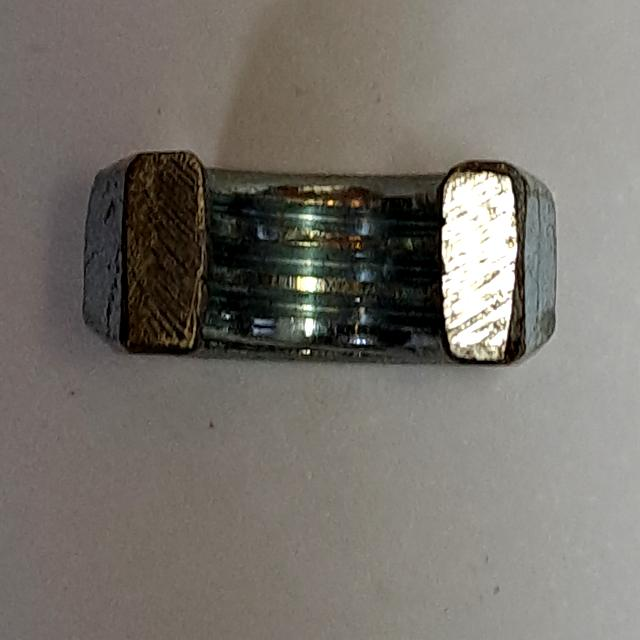Side-Fracture: (70, 130, 578, 386)
